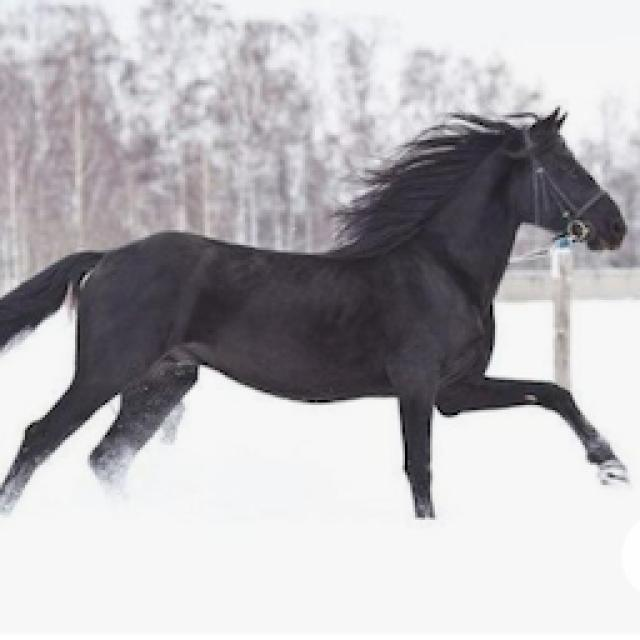Horse: (0, 100, 638, 525)
